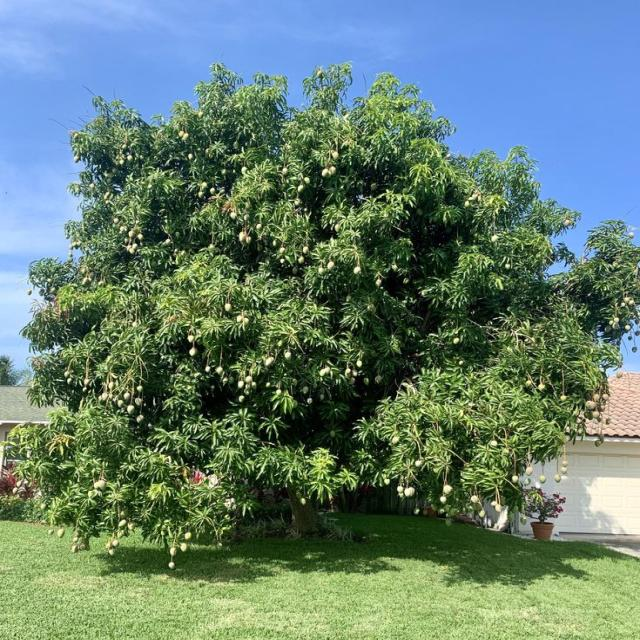Mango-Tree: (51, 76, 576, 551)
